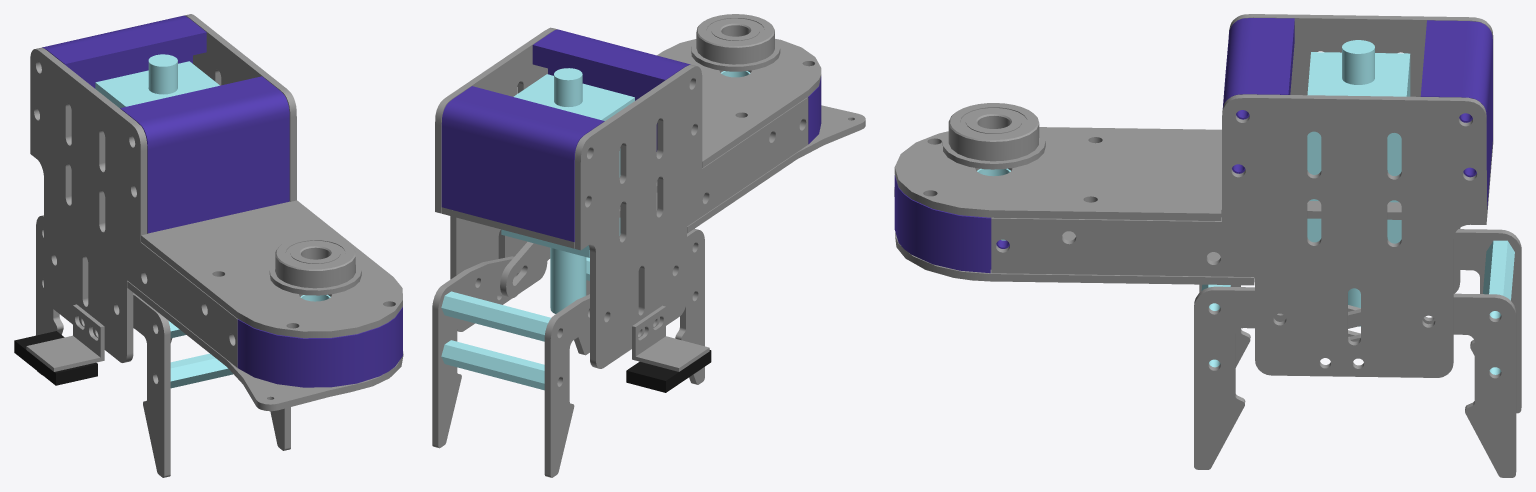
File: M3_Gripper.glb
3 views of the same model, side by side, from view 1: azimuth 30°, elevation 25°; view 2: azimuth 150°, elevation 25°; view 3: azimuth 270°, elevation 25° (orthographic). The views are drawn at different scales.
Visible parts, largest first — view 1: M3_Gripper; view 2: M3_Gripper; view 3: M3_Gripper.
Part boxes in pixels (box(x1,y1,x2,y2)): M3_Gripper: box(14, 14, 403, 477); M3_Gripper: box(432, 14, 865, 477); M3_Gripper: box(894, 14, 1521, 477).
Size of the model in its own units: 0.065 by 0.1048 by 0.1517.
